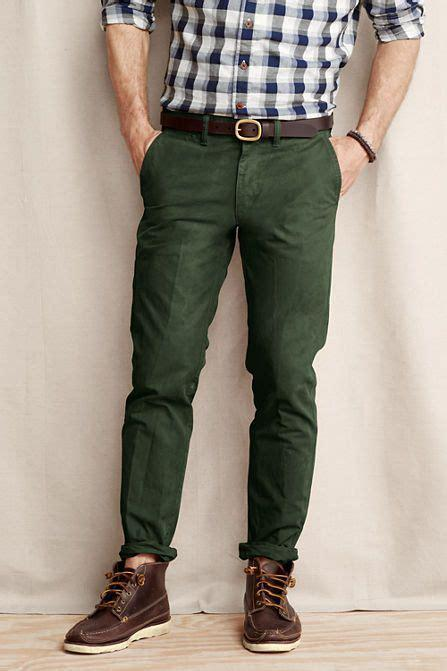pants: (119, 106, 341, 562)
